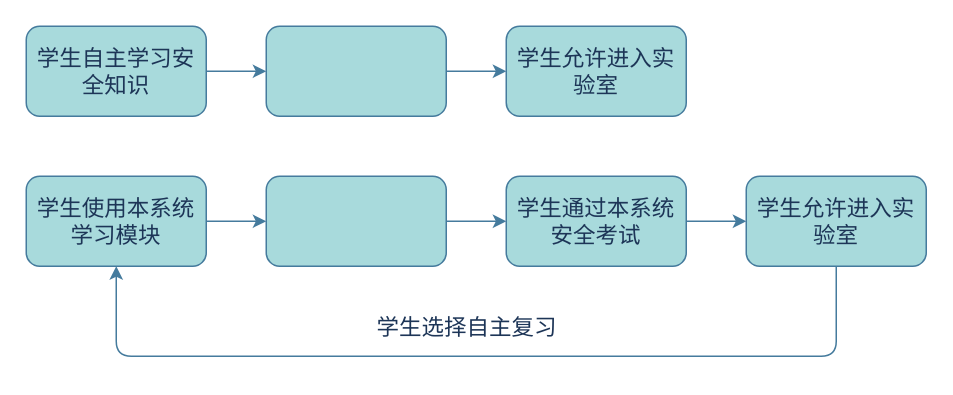
This 953x395 diagram has some shape labels left out. Each missing label, with the centre of its shape:
"学生通过实验室安全考试" belongs at pixel 355 70.
"学生通过本系统模拟操作训练" belongs at pixel 355 220.
